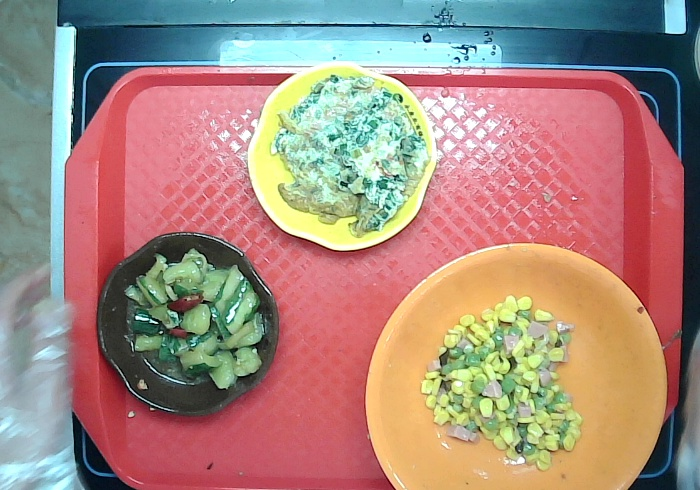YKMZ-Huang_Se_Ao_Bian_Wan: (247, 58, 438, 256)
YKMZ-Ju_Se_Tang_Wan: (362, 241, 670, 490)
YKMZ-Ka_Fei_Ao_Bian_Wan: (96, 227, 282, 419)
